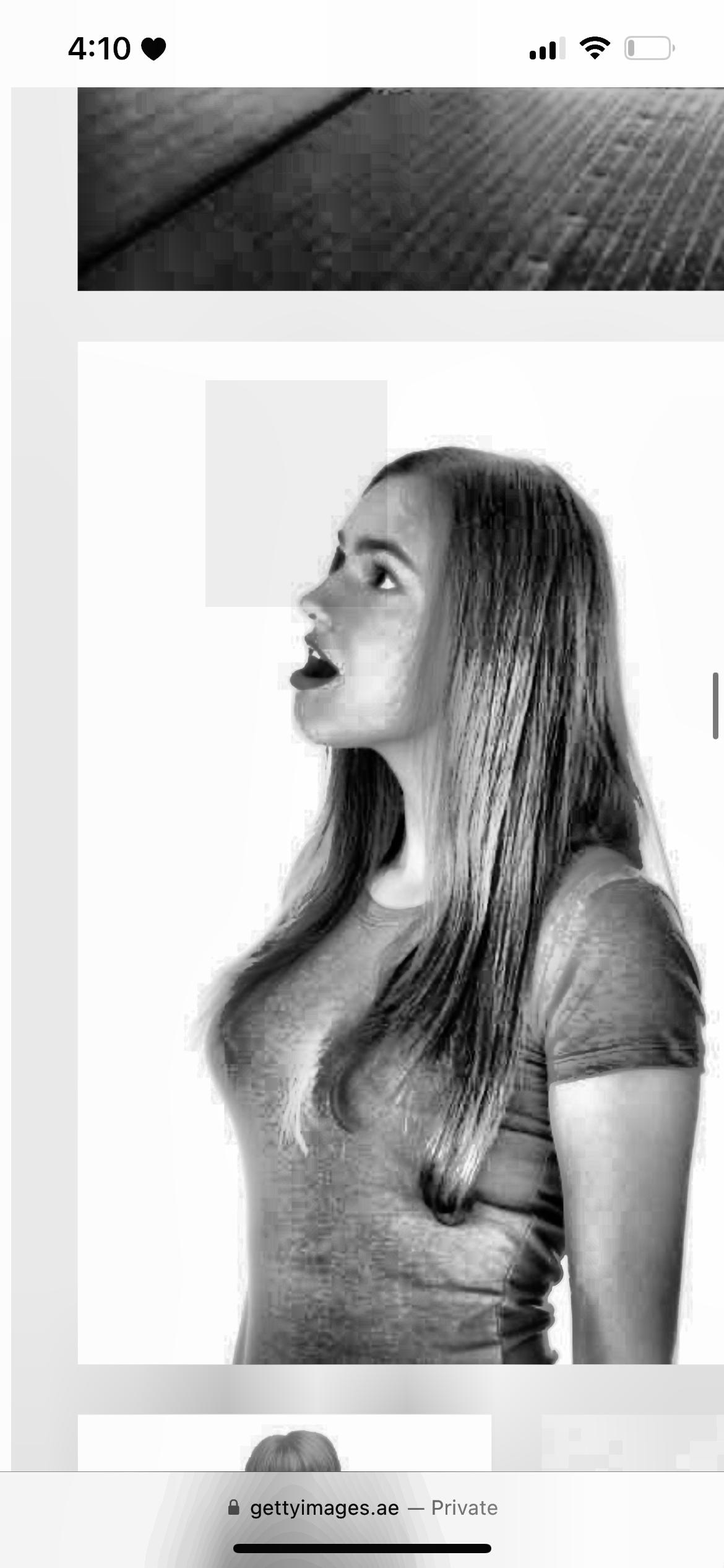surprised: (254, 470, 479, 750)
